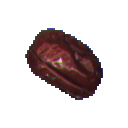ng: (18, 22, 112, 105)
